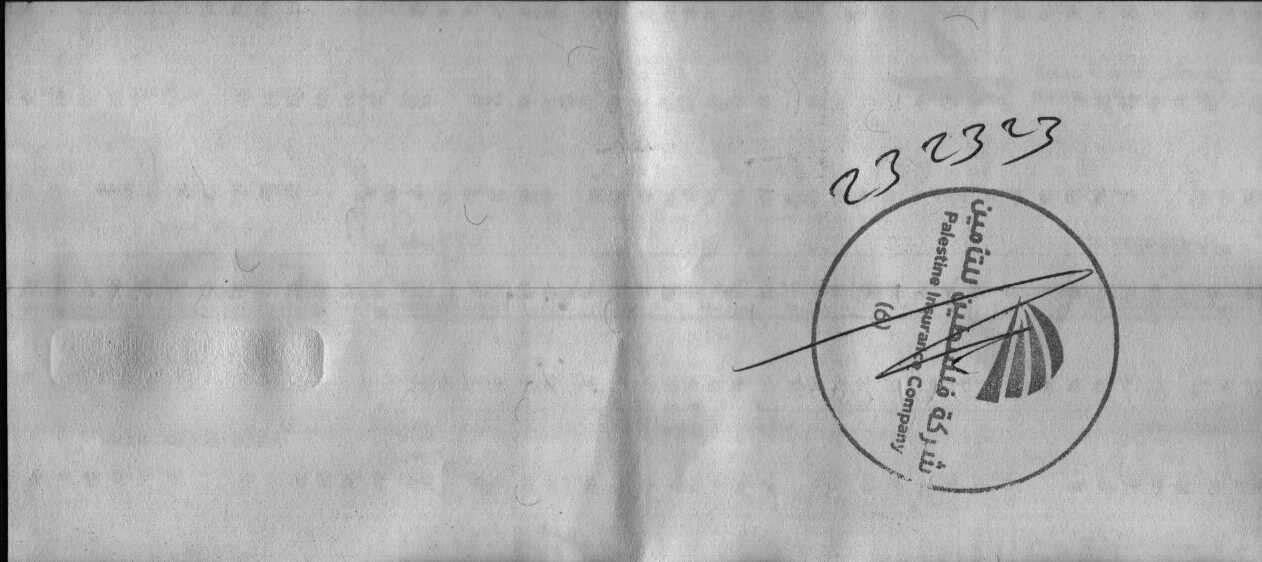stamp: (807, 185, 1124, 494)
